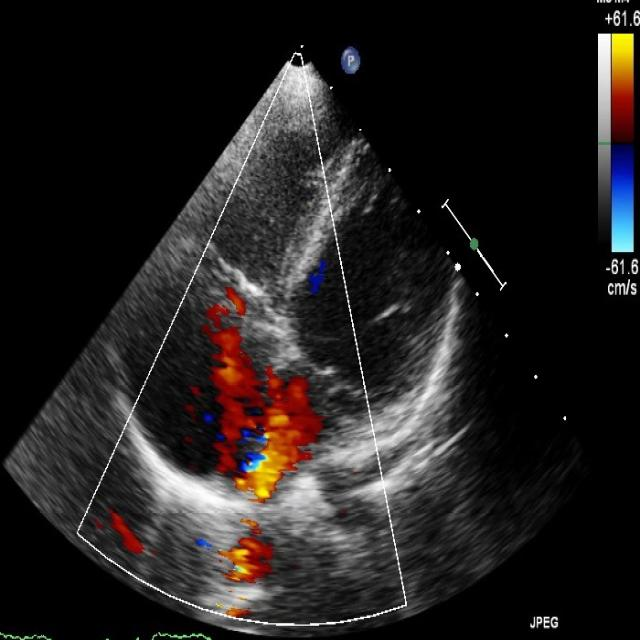ASDType2: (208, 340, 318, 500)
